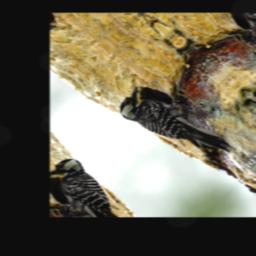Woodpecker: (111, 70, 245, 179)
